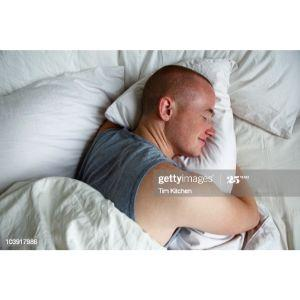sleep: (72, 65, 262, 248), (179, 97, 218, 159)
